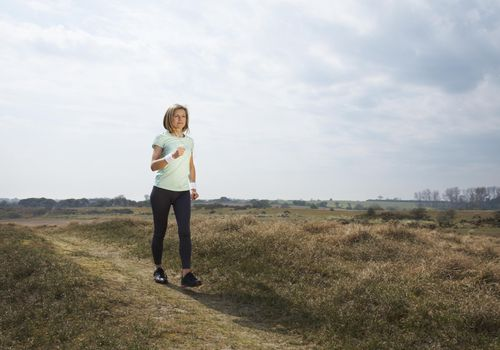Person: (141, 98, 218, 295)
